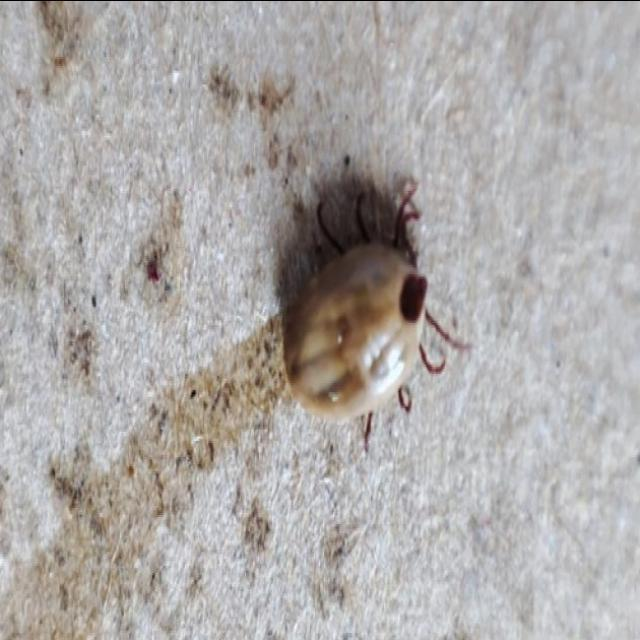Rhipicephalus Sanguineus-F-Fed: (282, 178, 472, 454)
